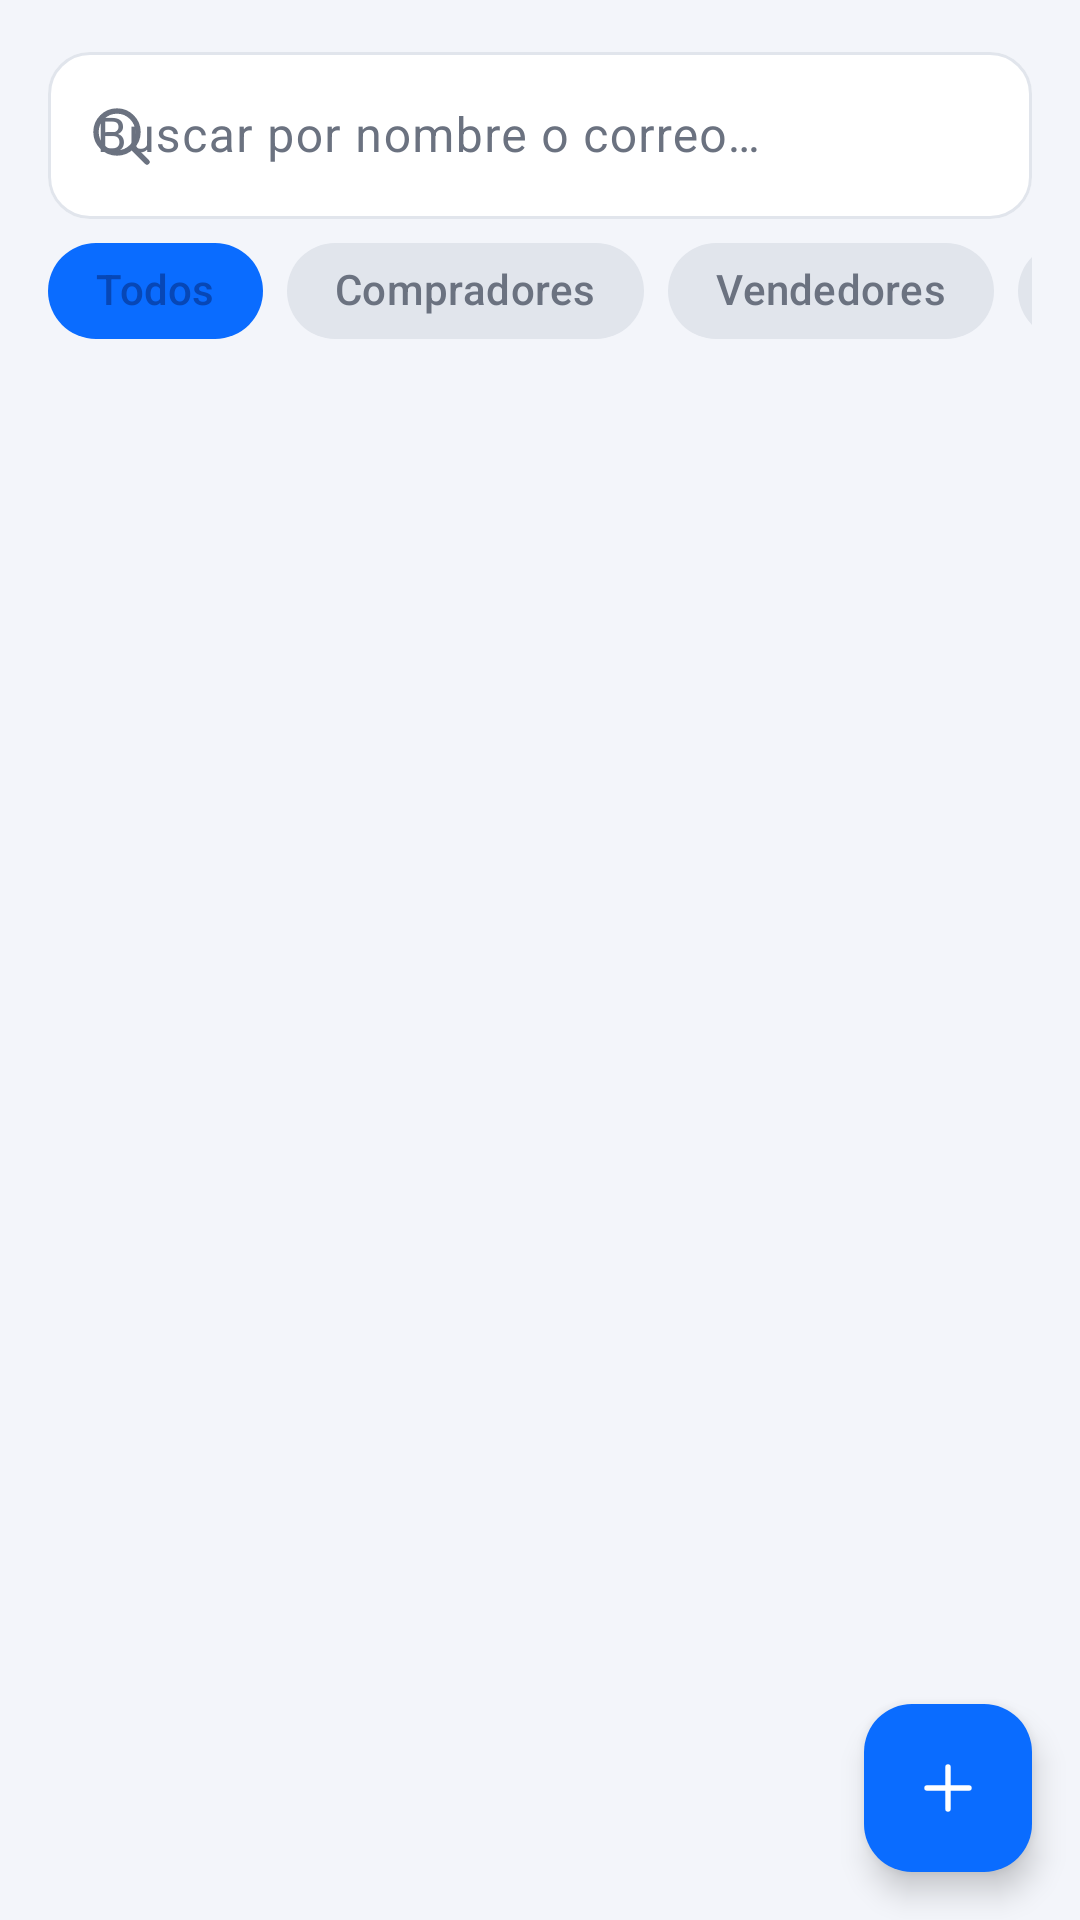

Icon click points for this 1080w x 1920h phone screenshot, format point (x, y):
Crear usuario: point (948, 1788)
